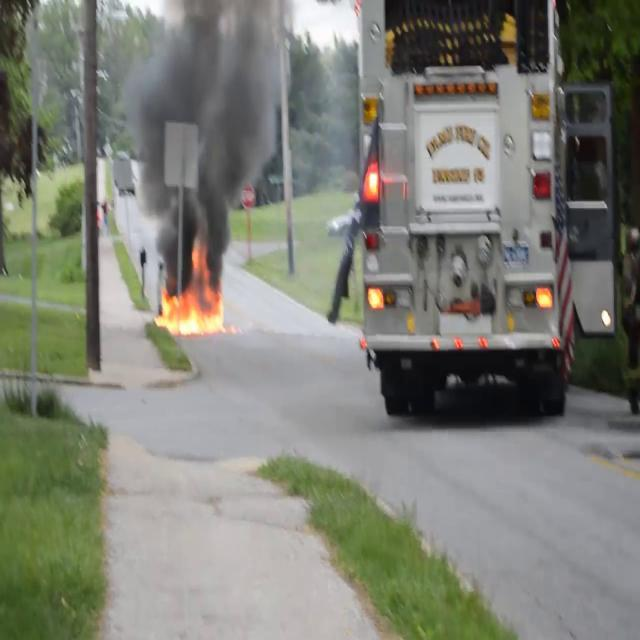Fire: (158, 274, 226, 343)
Smoke: (107, 0, 325, 266)
